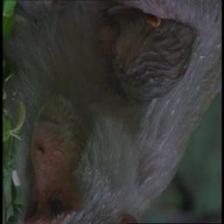monkey: (0, 76, 94, 223), (93, 0, 200, 103)
